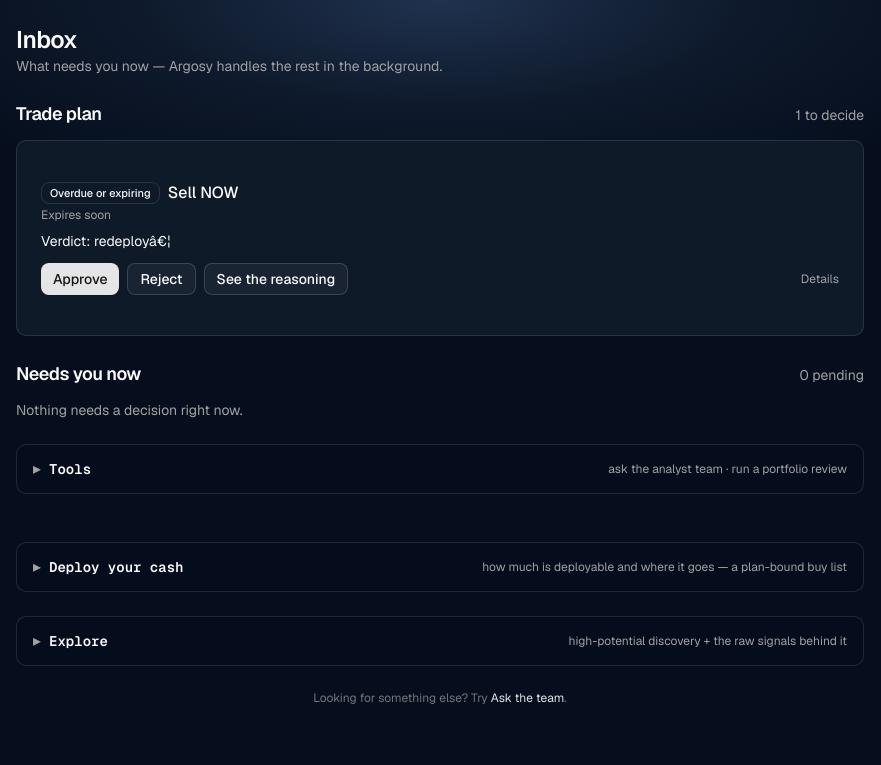
Scenario: inbox 'See the reasoning' › surfaces a fetch failure as a visible error instead of a dead button
Click the button "See the reasoning". click: (276, 279)
box: [204,263,348,295]
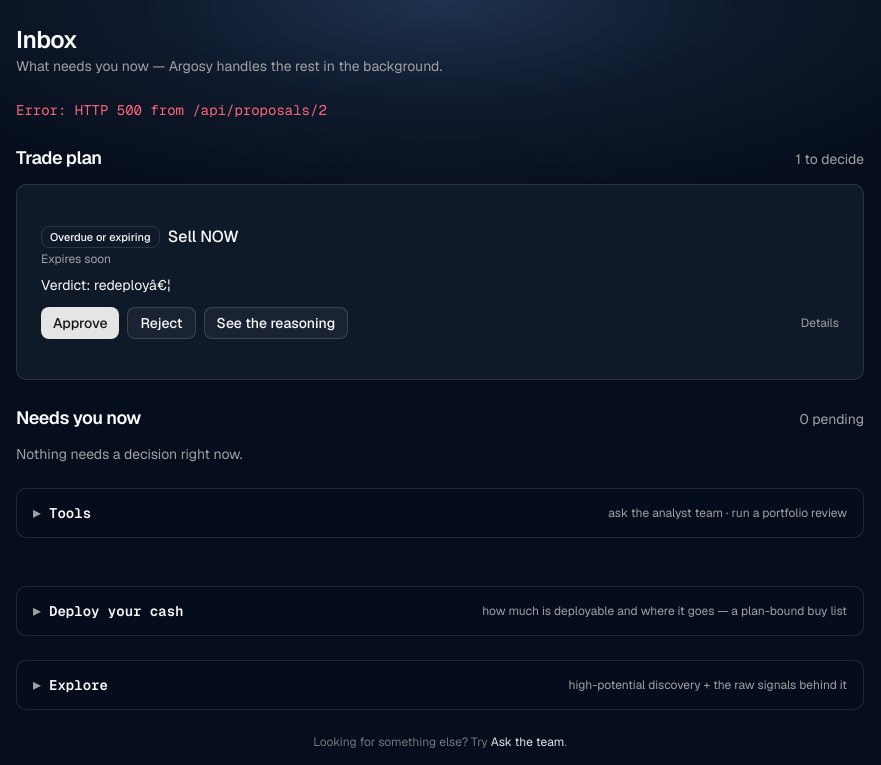
Expected: the text "Error: HTTP 500 from /api/proposals/2" is shown, [16,101,327,119]
